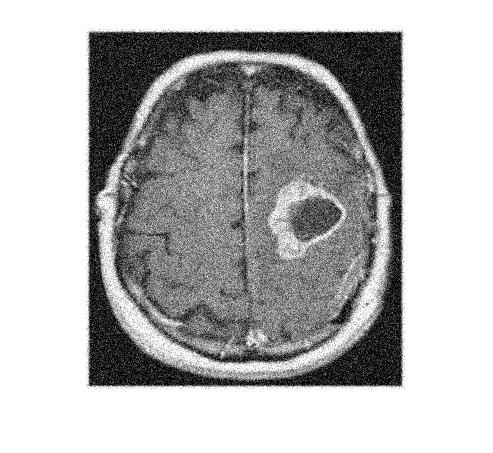Brain_Cancer: (263, 172, 352, 266)
